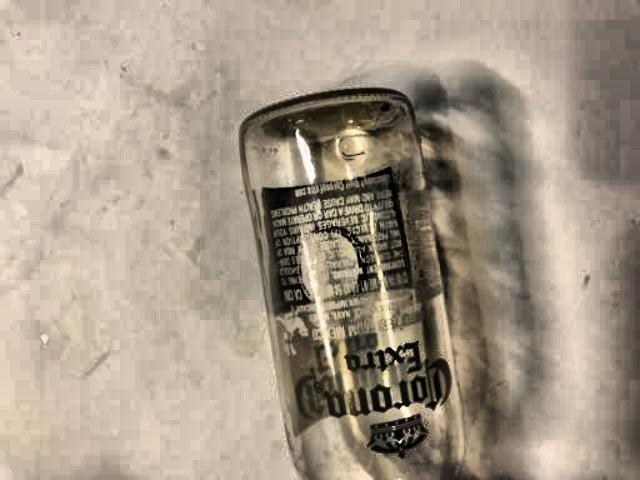Bottles: (209, 64, 469, 480)
